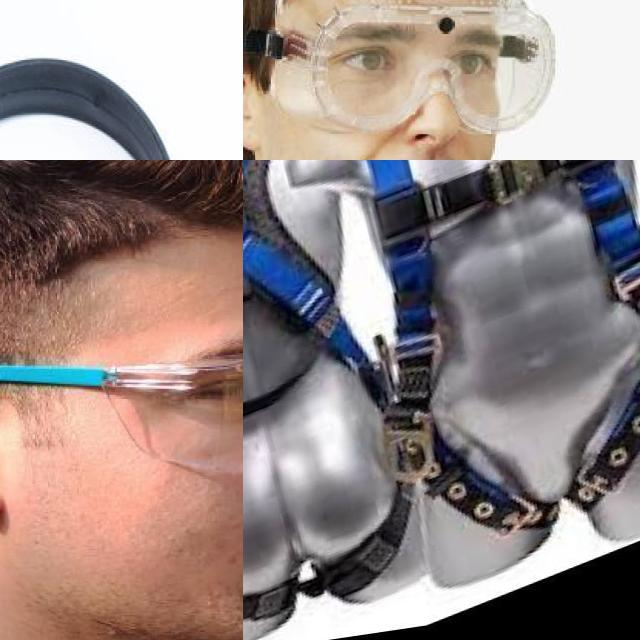Ear-protection: (0, 39, 204, 160)
Harness: (363, 160, 640, 338), (243, 160, 369, 372)
No_Ear-Protection: (243, 38, 275, 158)
face_nomask: (309, 0, 504, 160), (192, 320, 243, 598)
glasses: (251, 0, 557, 137), (0, 334, 243, 479)
head_nohelmet: (0, 160, 243, 321)
